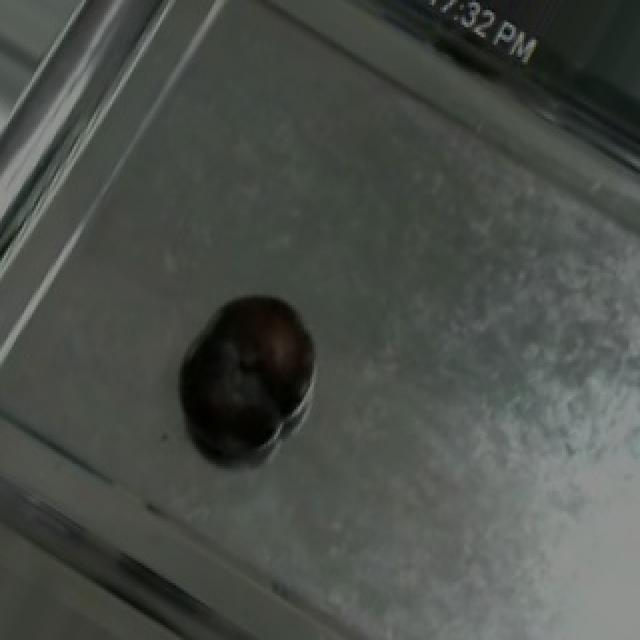Fruit: (162, 273, 338, 464)
